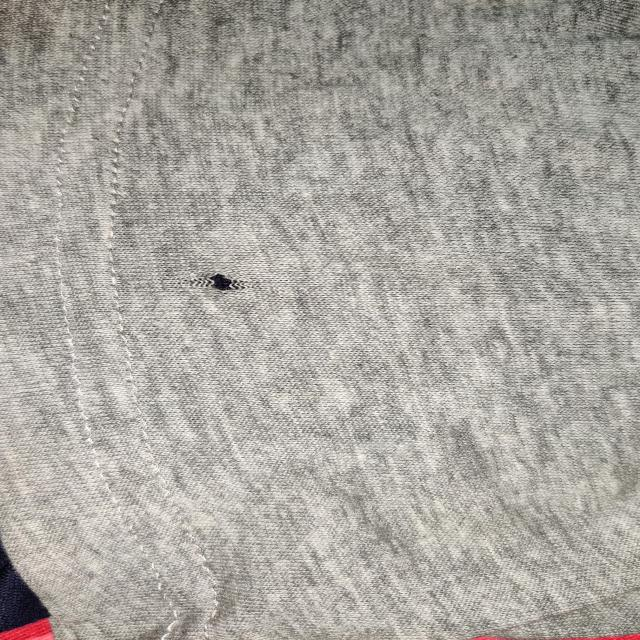Hole: (183, 270, 251, 293)
